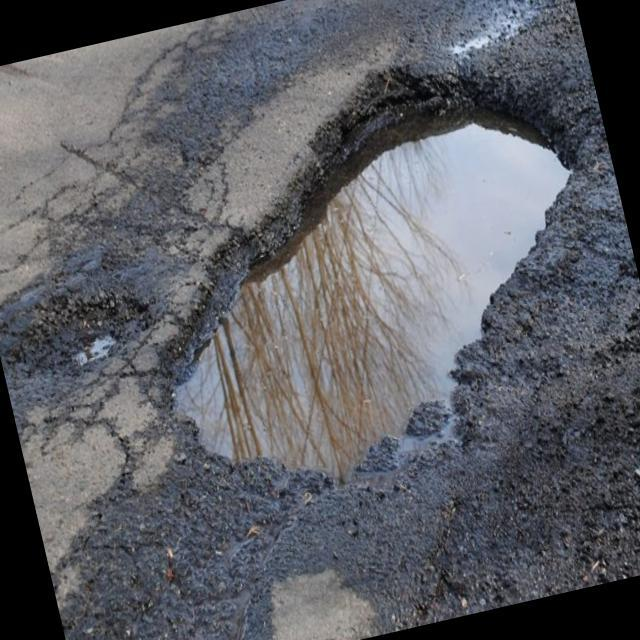Pothole: (203, 70, 599, 505), (6, 266, 162, 400)
